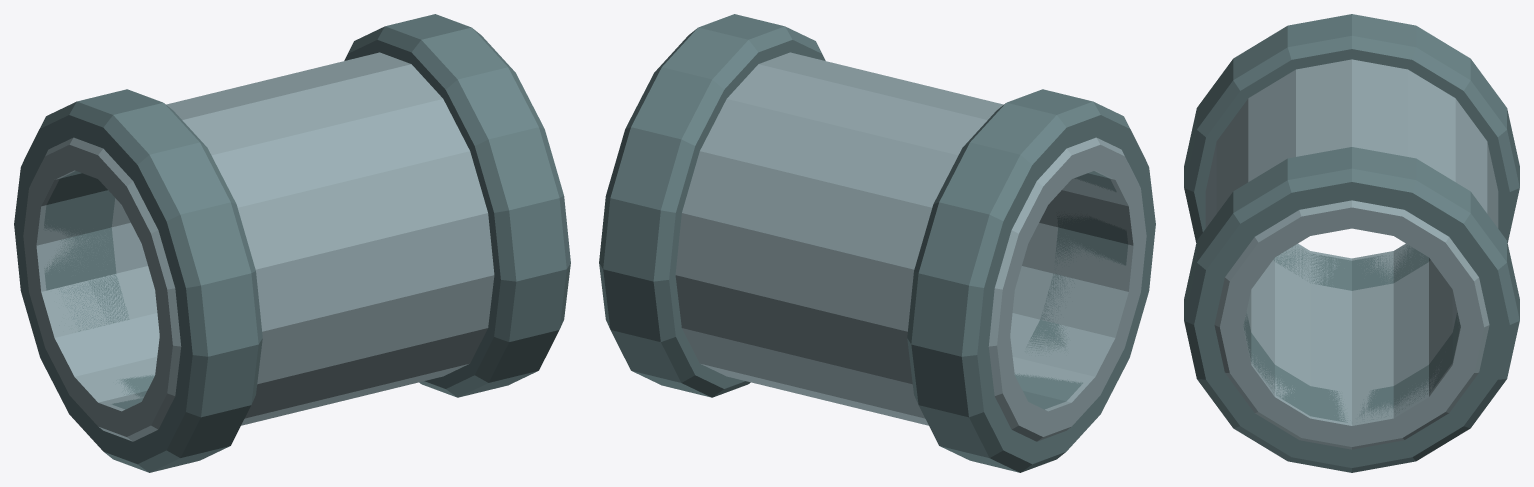
Rendered from Systems-PipeCoupler.fbx.
The picture shows the model from 3 angles, left to right: view 1: azimuth 30°, elevation 25°; view 2: azimuth 150°, elevation 25°; view 3: azimuth 270°, elevation 25°; orthographic projection. The views are drawn at different scales.
Parts seen in each view (by area): view 1: Sleeve, Raised End Band, Raised End Band.001; view 2: Sleeve, Raised End Band, Raised End Band.001; view 3: Sleeve, Raised End Band.001, Raised End Band.
Part boxes in pixels (x1,y1,x2,y2): Sleeve: (23, 52, 494, 441); Raised End Band: (14, 89, 262, 472); Raised End Band.001: (344, 14, 570, 397); Sleeve: (675, 52, 1146, 441); Raised End Band: (907, 89, 1155, 472); Raised End Band.001: (599, 14, 825, 397); Sleeve: (1205, 59, 1498, 449); Raised End Band.001: (1184, 147, 1519, 472); Raised End Band: (1184, 14, 1519, 290).
Size of the model in its own units: 0.111 by 0.094 by 0.094.
